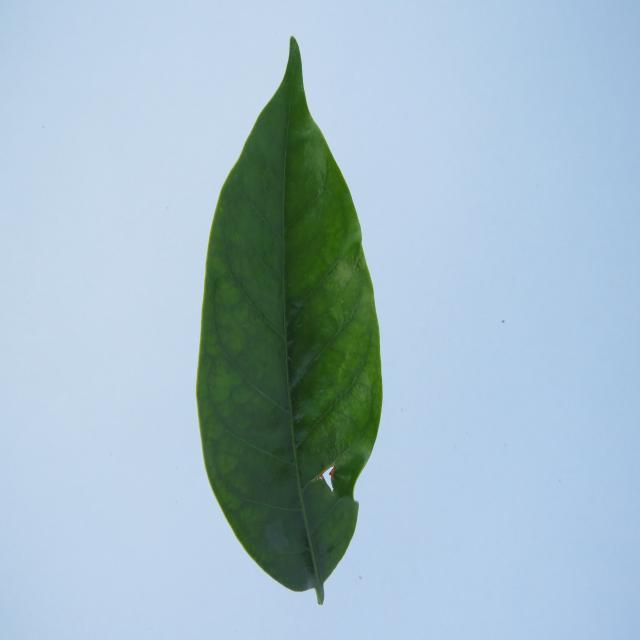DeficienciaNutricional-Hierro: (199, 40, 376, 594)
